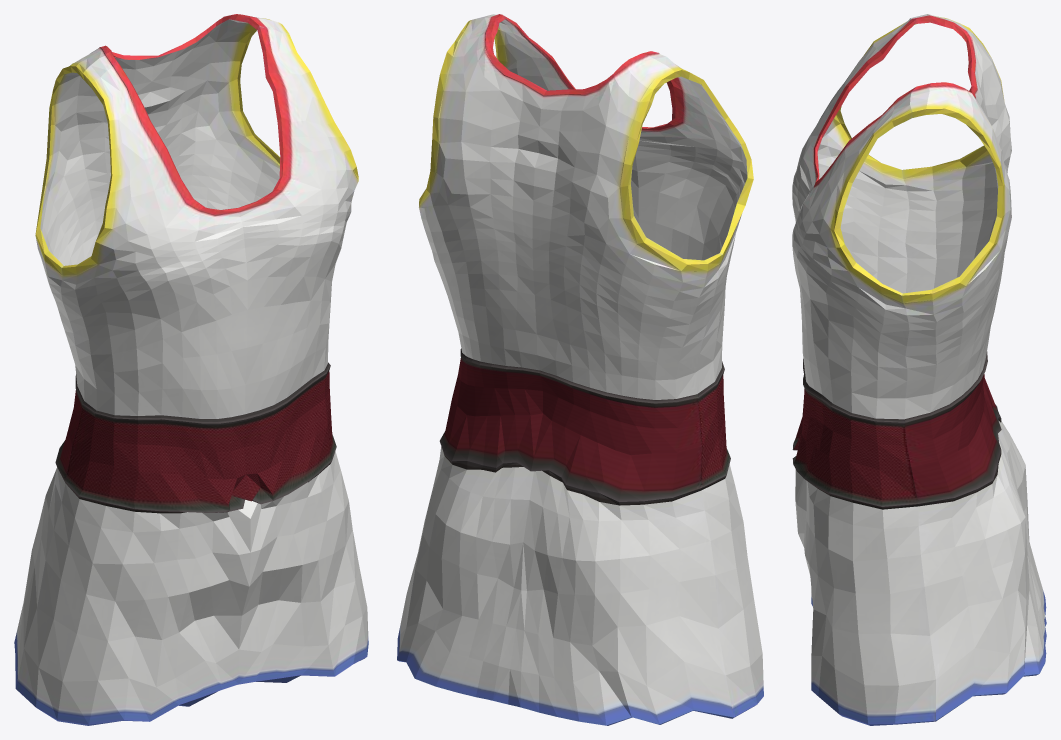
File: mhw_punkduck_tennis_dress.glb
3 renders of one model, left to right at view 1: azimuth 30°, elevation 25°; view 2: azimuth 150°, elevation 25°; view 3: azimuth 270°, elevation 25°, orthographic. The views are drawn at different scales.
Visible parts, largest first — view 1: mhw_punkduck_tennis_dress; view 2: mhw_punkduck_tennis_dress; view 3: mhw_punkduck_tennis_dress.
Boxes of the visible parts, box(x1,y1,x2,y2) form: mhw_punkduck_tennis_dress: box(14, 14, 368, 725); mhw_punkduck_tennis_dress: box(397, 14, 763, 725); mhw_punkduck_tennis_dress: box(792, 14, 1046, 725).
Bounding box in the file's own units: 0.4263 × 0.7814 × 0.2987.
1 material, 1 textured.
